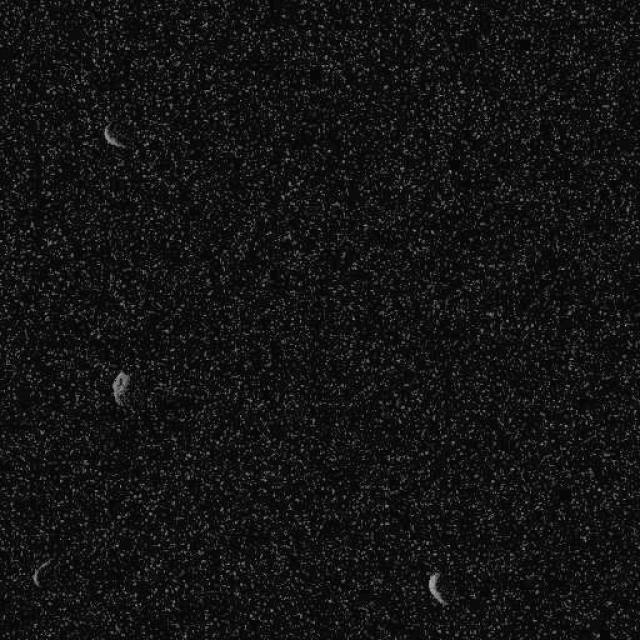D2: (110, 369, 130, 406), (426, 570, 446, 606), (102, 122, 126, 150), (30, 558, 51, 588)
